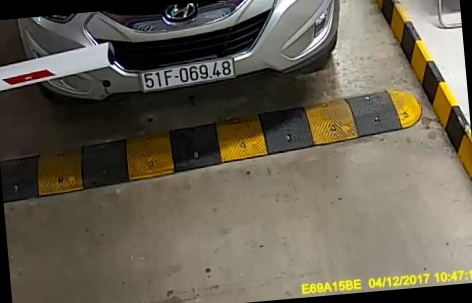plate: (137, 53, 247, 92)
